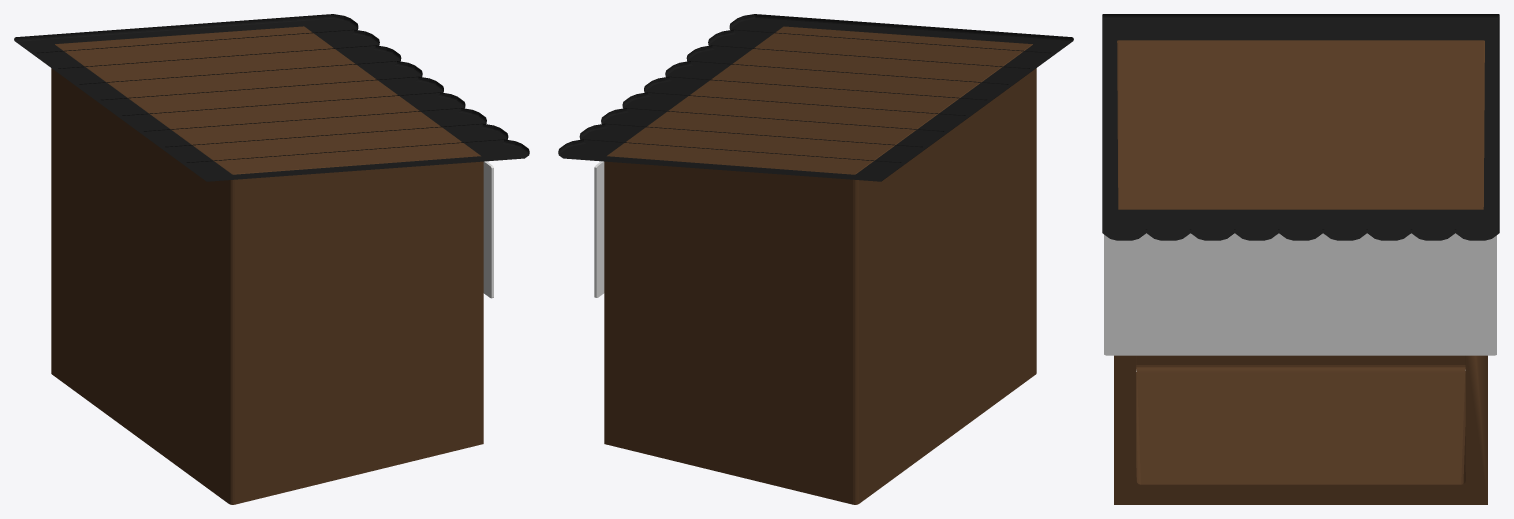
File: PetHouse.fbx
3 views of the same model, side by side, from view 1: azimuth 30°, elevation 25°; view 2: azimuth 150°, elevation 25°; view 3: azimuth 270°, elevation 25° (orthographic). The views are drawn at different scales.
Visible parts, largest first — view 1: House, Roof, Sign; view 2: House, Roof, Sign; view 3: House, Sign, Roof.
Boxes of the visible parts, x1=… form: House: x1=51, y1=26, x2=483, y2=504; Roof: x1=14, y1=14, x2=529, y2=181; Sign: x1=483, y1=161, x2=493, y2=298; House: x1=604, y1=26, x2=1036, y2=504; Roof: x1=558, y1=14, x2=1073, y2=181; Sign: x1=594, y1=161, x2=604, y2=297; House: x1=1114, y1=40, x2=1487, y2=504; Sign: x1=1104, y1=233, x2=1496, y2=355; Roof: x1=1102, y1=14, x2=1499, y2=240.
Bounding box in the file's own units: 74.41 × 73.15 × 75.34.
